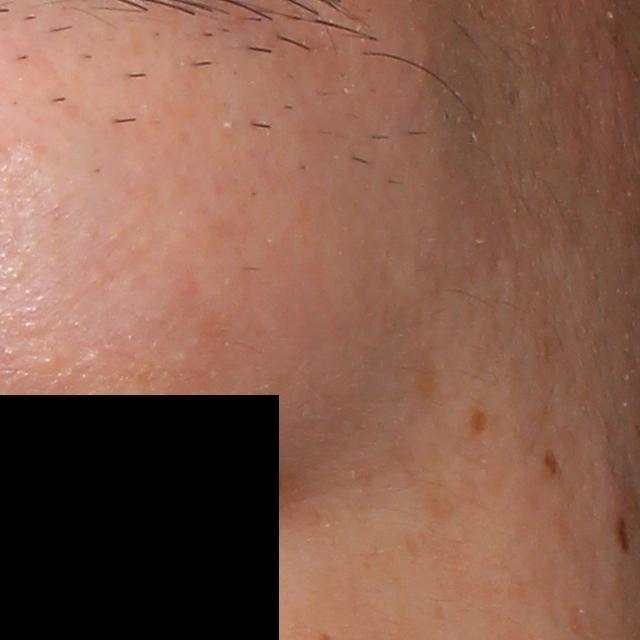melasma: (411, 350, 438, 397), (461, 403, 491, 442), (541, 447, 559, 476)
nevus: (612, 511, 635, 557)
